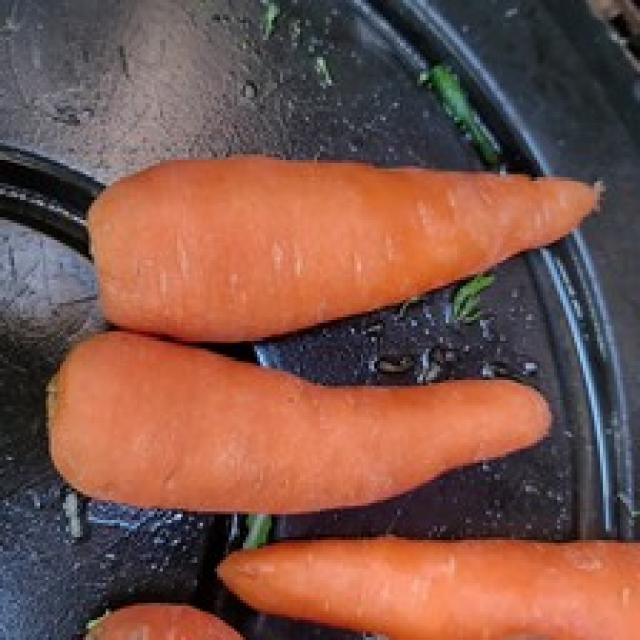carrot: (87, 151, 608, 338), (49, 345, 553, 516), (222, 536, 640, 640)
